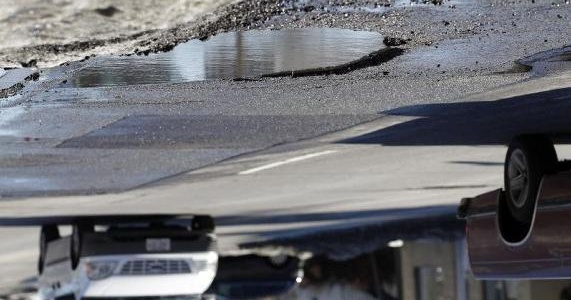pothole: (51, 29, 408, 91), (492, 61, 533, 76)
